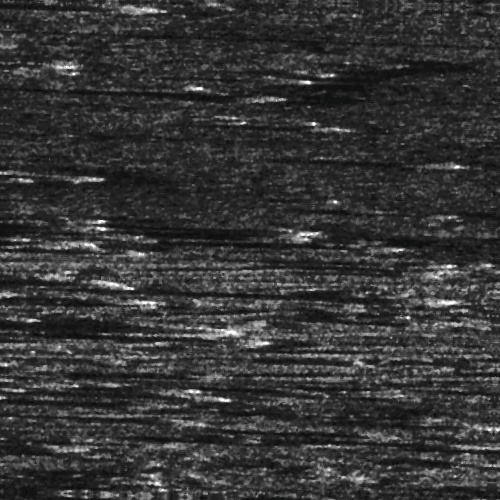object: (15, 63, 108, 74), (0, 243, 87, 254), (269, 226, 342, 239), (31, 177, 136, 186), (48, 281, 141, 290), (209, 90, 272, 101), (101, 7, 174, 16), (182, 368, 235, 379), (351, 238, 434, 245), (20, 385, 93, 392), (394, 289, 467, 296), (399, 152, 462, 159), (399, 153, 462, 160), (149, 326, 212, 333), (90, 299, 153, 306), (0, 321, 55, 326), (306, 121, 359, 126), (415, 254, 468, 259), (226, 336, 267, 341), (182, 394, 213, 397), (133, 405, 164, 408), (0, 298, 17, 303)
shadow: (0, 90, 240, 101), (78, 289, 430, 296), (183, 226, 305, 239), (80, 368, 208, 379), (249, 152, 431, 159), (249, 153, 431, 160), (0, 326, 181, 333), (212, 238, 392, 245), (0, 7, 137, 16), (0, 336, 246, 341), (0, 299, 121, 306), (0, 281, 94, 290), (0, 177, 83, 186), (0, 63, 62, 74), (374, 223, 500, 228), (210, 121, 333, 126), (436, 226, 500, 235), (5, 394, 197, 397), (0, 243, 41, 254), (0, 405, 148, 408), (412, 236, 500, 241), (0, 385, 57, 392), (383, 254, 441, 259)
